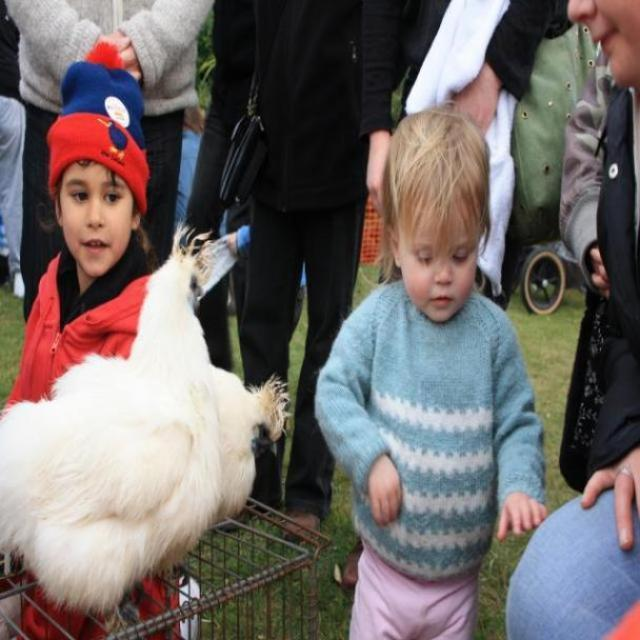Chicken: (0, 222, 295, 625)
